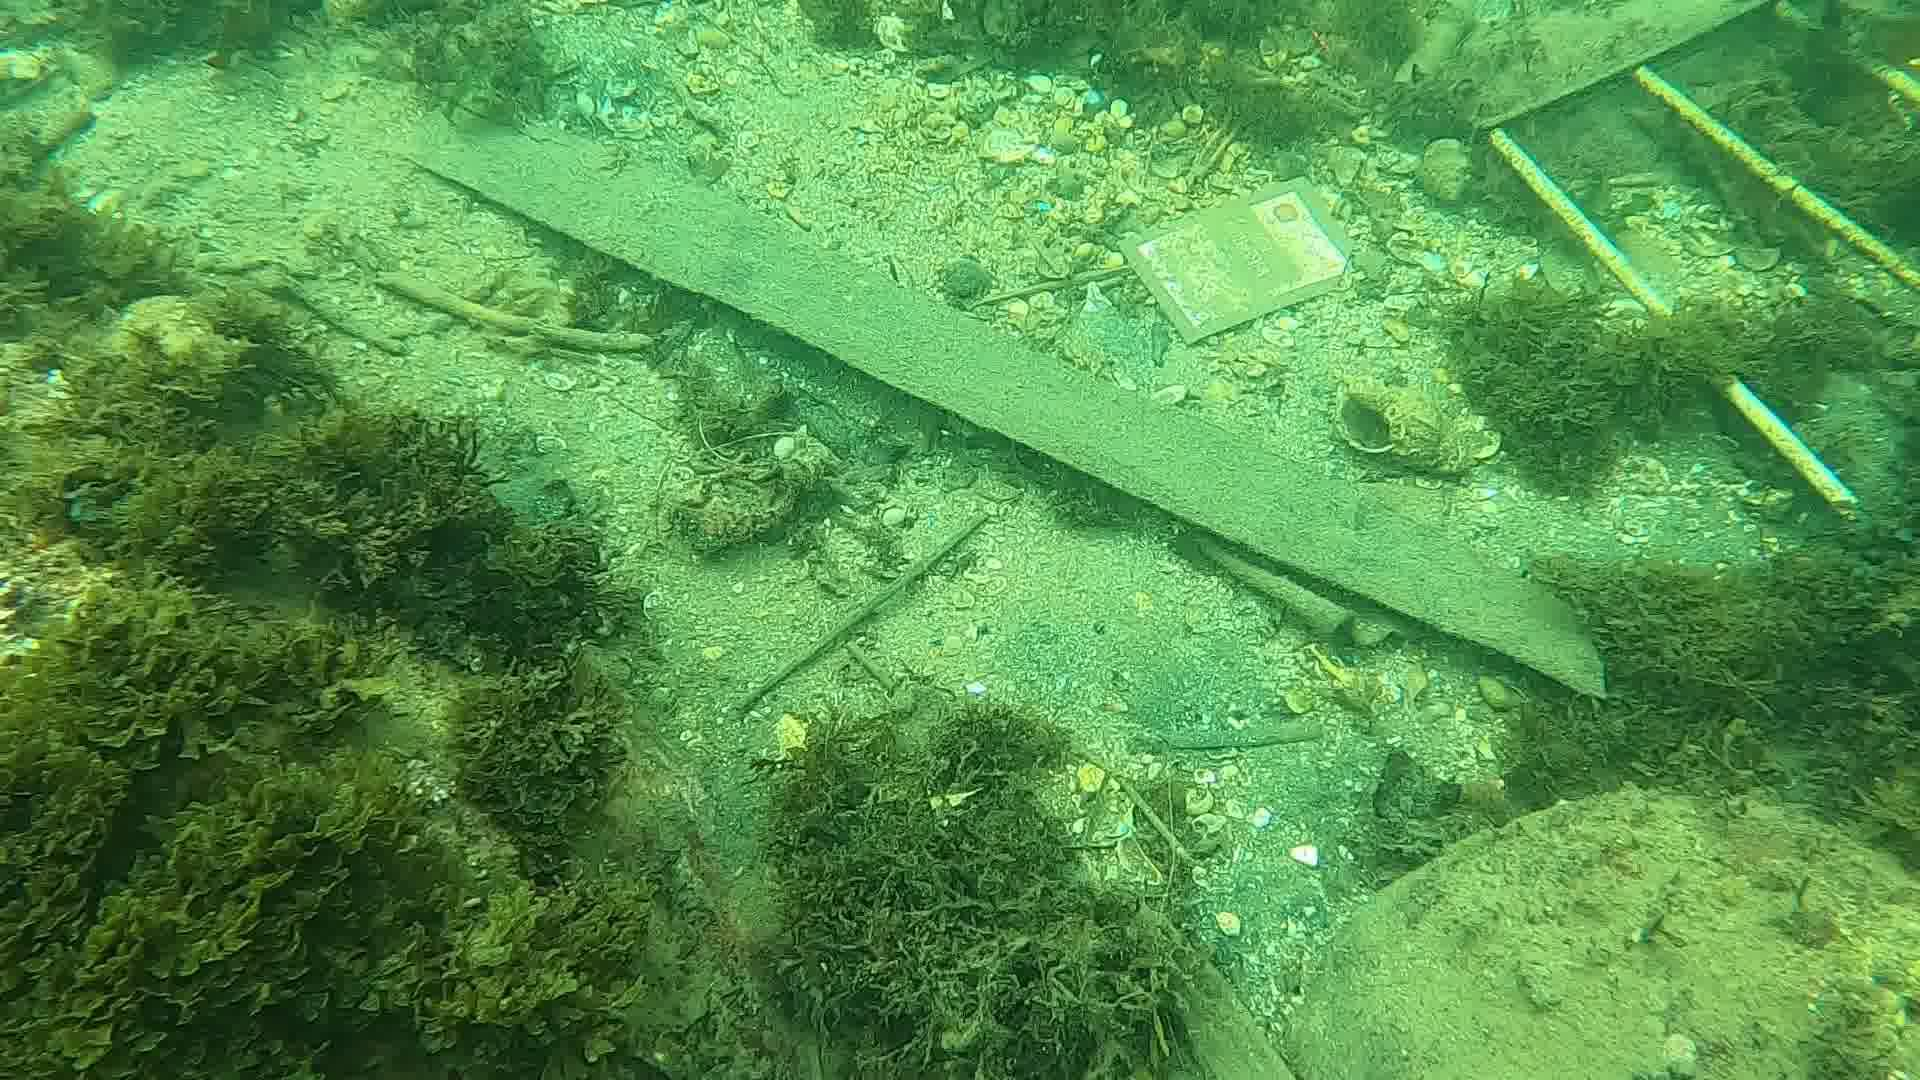wood: (393, 94, 1607, 698)
